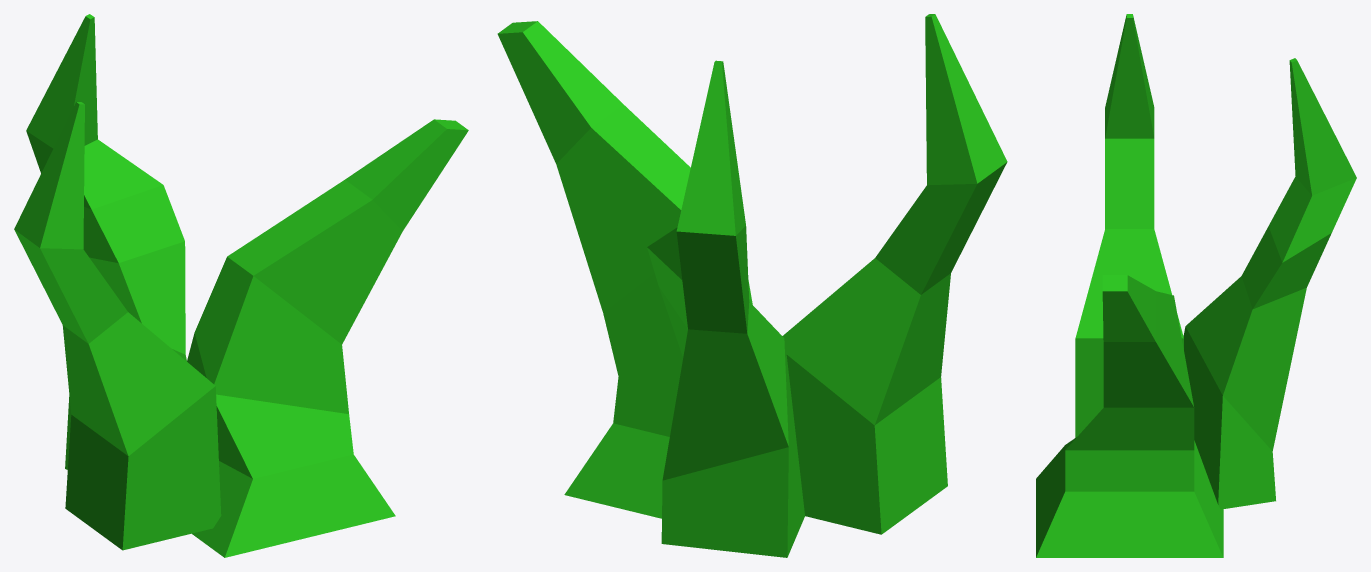
Rendered from Grass_T3.fbx.
The picture shows the model from 3 angles, left to right: view 1: azimuth 30°, elevation 25°; view 2: azimuth 150°, elevation 25°; view 3: azimuth 270°, elevation 25°; orthographic projection. The views are drawn at different scales.
Visible parts, largest first — view 1: Grass_T3; view 2: Grass_T3; view 3: Grass_T3.
Part boxes in pixels (x1,y1,x2,y2): Grass_T3: (14, 14, 468, 557); Grass_T3: (497, 14, 1007, 557); Grass_T3: (1036, 14, 1356, 557).
Bounding box in the file's own units: 29.77 × 29.43 × 20.4.
